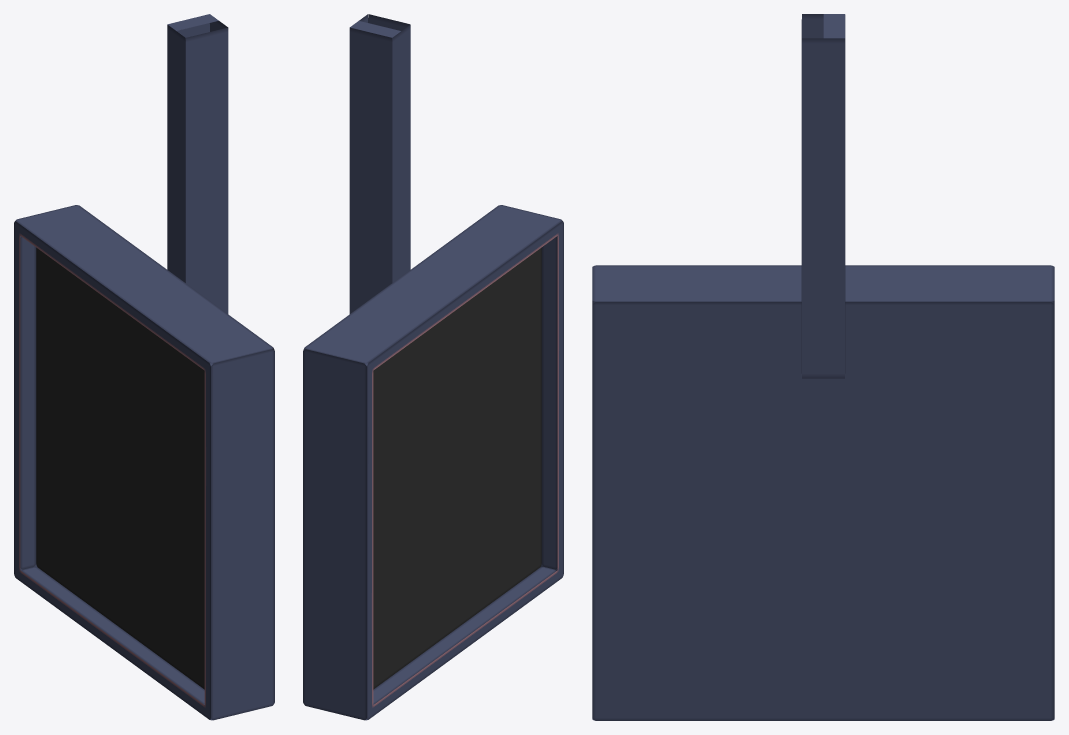
The picture shows the model from 3 angles, left to right: view 1: azimuth 30°, elevation 25°; view 2: azimuth 150°, elevation 25°; view 3: azimuth 270°, elevation 25°; orthographic projection. The views are drawn at different scales.
Parts seen in each view (by area): view 1: mesh, mesh_1; view 2: mesh, mesh_1; view 3: mesh, mesh_1.
Part boxes in pixels (<box>): mesh: <box>14,205,274,720</box>; mesh_1: <box>167,14,228,313</box>; mesh: <box>303,205,563,720</box>; mesh_1: <box>349,14,410,313</box>; mesh: <box>592,265,1054,720</box>; mesh_1: <box>801,14,845,378</box>.
Size of the model in its own units: 31.25 by 169 by 100.
Materials: 1 (1 with a texture image).
